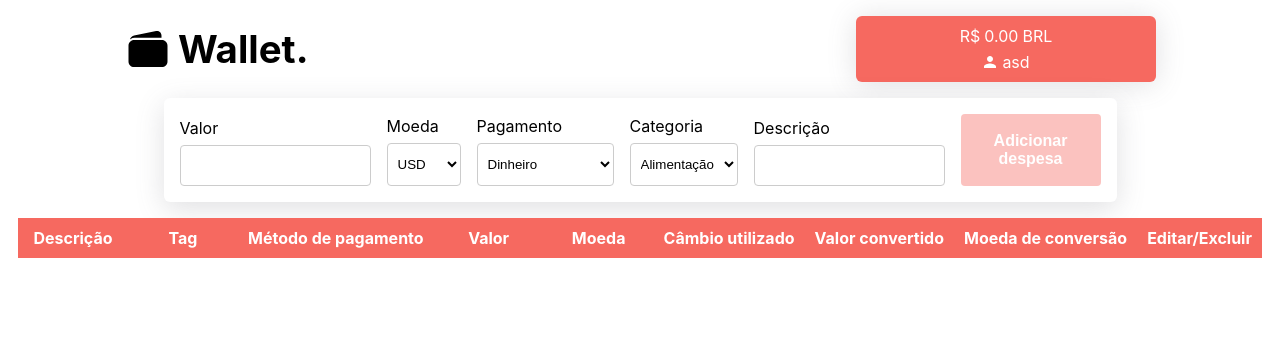
it: Wallet page tests › Should add a expense after filling the inputs and clicking the button
The width and height of the screenshot is (1280, 350).
Step 1. Type "26" into the number field with test id "value-input" → x=275, y=165, box [180,145,370,186]
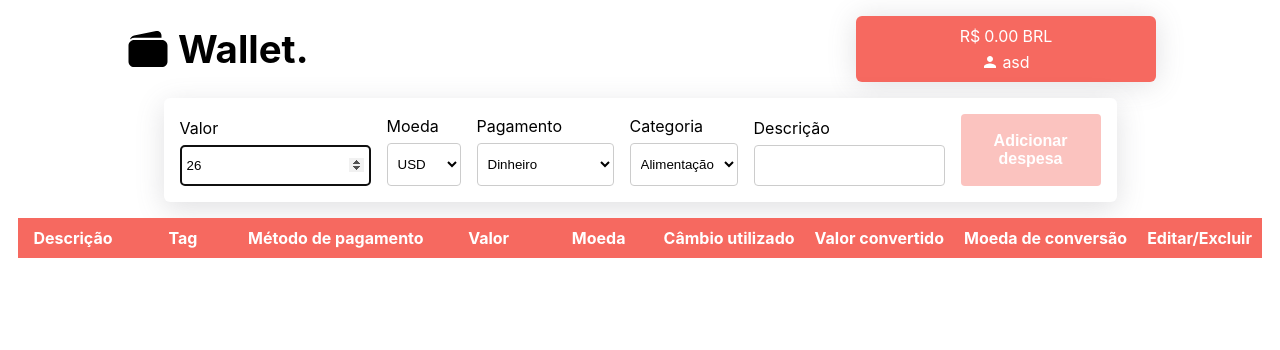
Step 2. Type "Vinte e seis doláres" into the field with test id "description-input" → x=849, y=165, box [754,145,944,186]
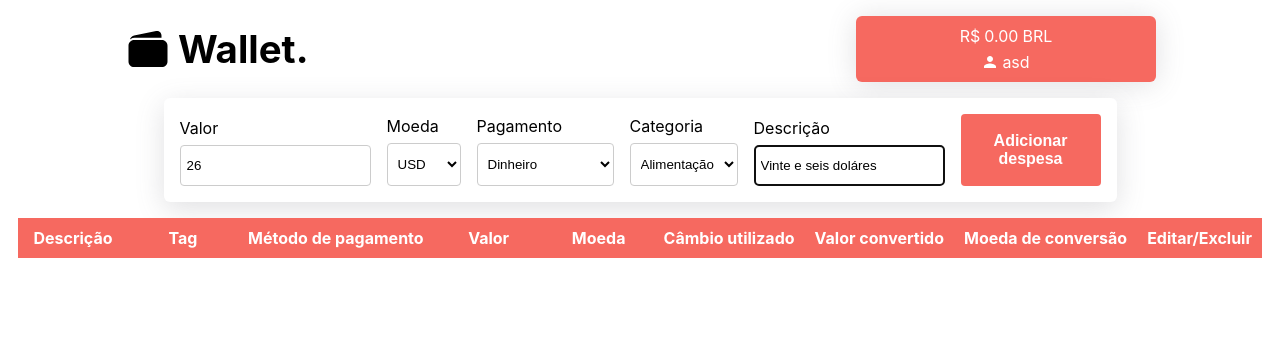
Step 3. Click the button "Adicionar despesa" → x=1030, y=150, box [960,114,1100,186]
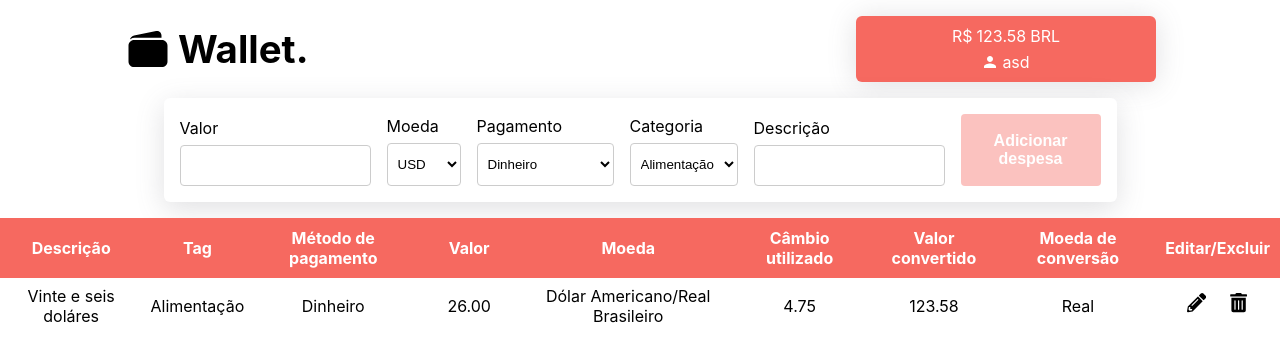
Now the cell "26.00" is shown, box [414,278,524,334]
Now the cell "Vinte e seis doláres" is shown, box [0,278,142,334]
